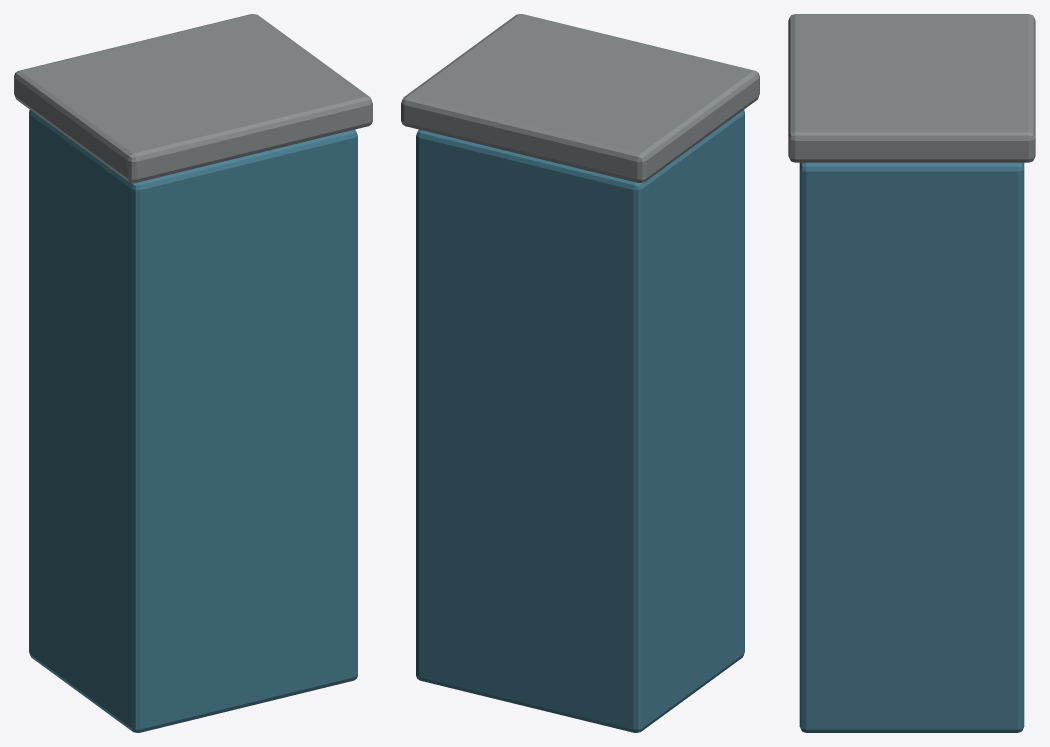
Rendered from Prop_Street_013.glb.
3 renders of one model, left to right at view 1: azimuth 30°, elevation 25°; view 2: azimuth 150°, elevation 25°; view 3: azimuth 270°, elevation 25°, orthographic. The views are drawn at different scales.
Parts seen in each view (by area): view 1: Prop_Street_013; view 2: Prop_Street_013; view 3: Prop_Street_013.
Part boxes in pixels (left/top/right/bottom): Prop_Street_013: left=14, top=14, right=372, bottom=732; Prop_Street_013: left=401, top=14, right=759, bottom=732; Prop_Street_013: left=788, top=14, right=1035, bottom=732.
Bounding box in the file's own units: 1.3 × 2.98 × 1.1.
